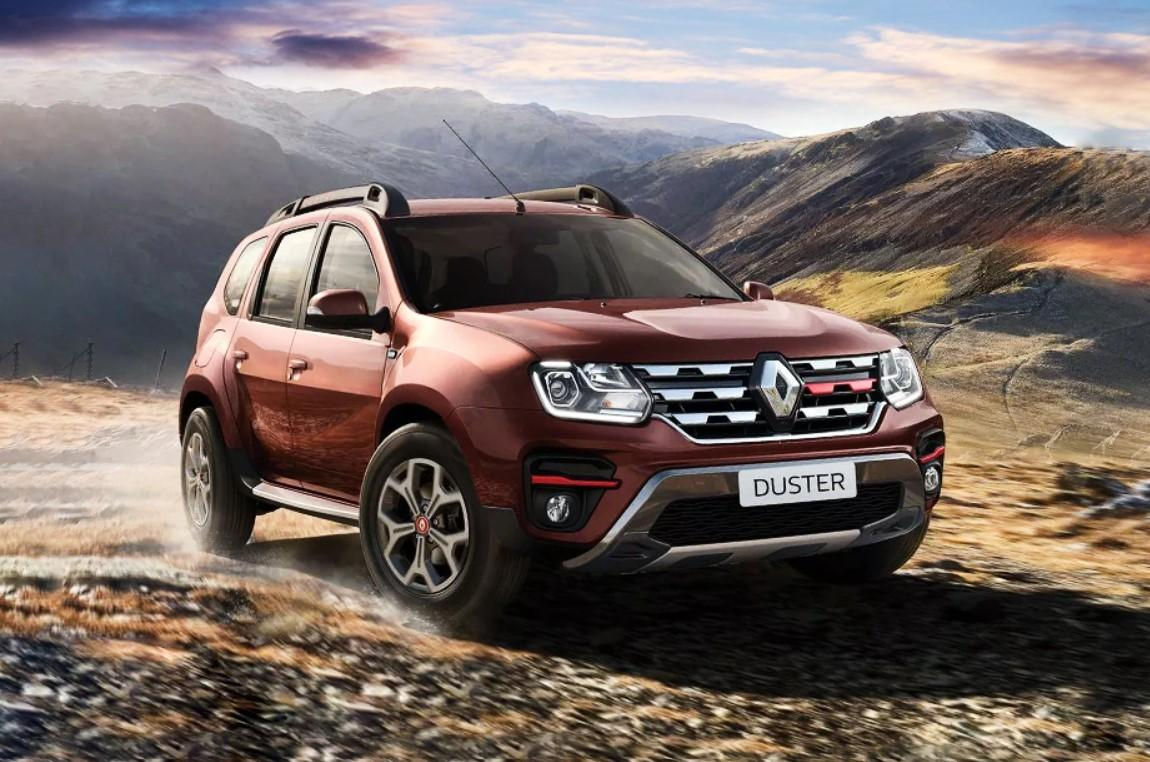Renault: (749, 345, 807, 431)
